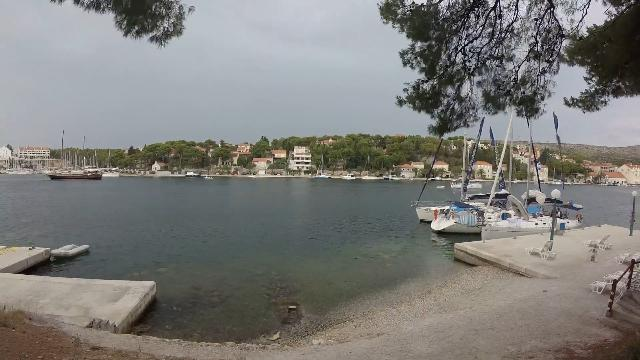Freighter: (38, 166, 108, 184)
